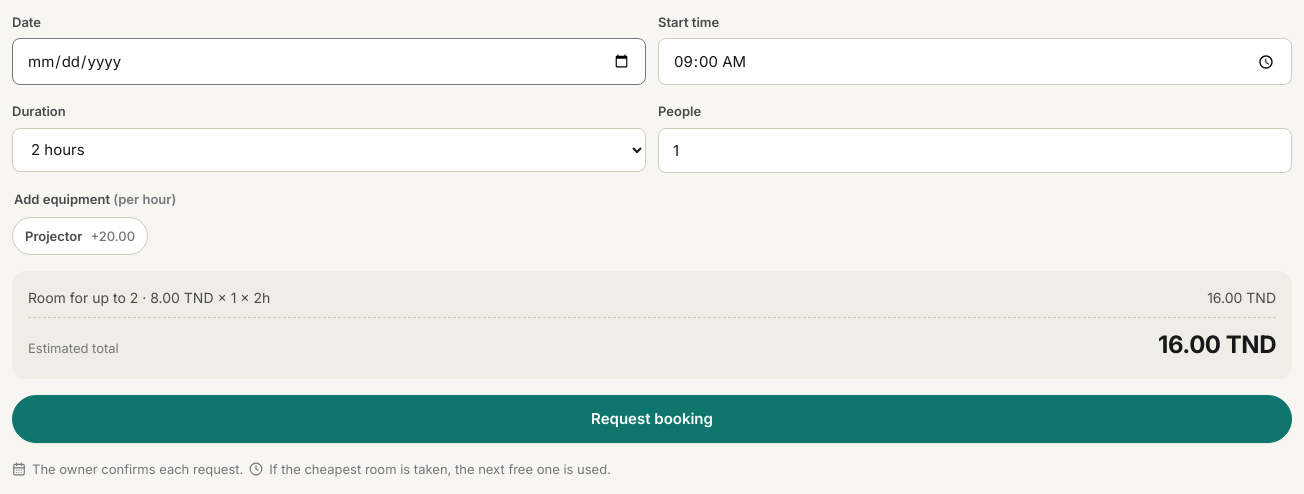
Test: BookingForm › explains when no room is big enough and disables booking
Replace the text in the number field labelled "People" with "9": (975, 150) x1=658 y1=128 x2=1292 y2=173
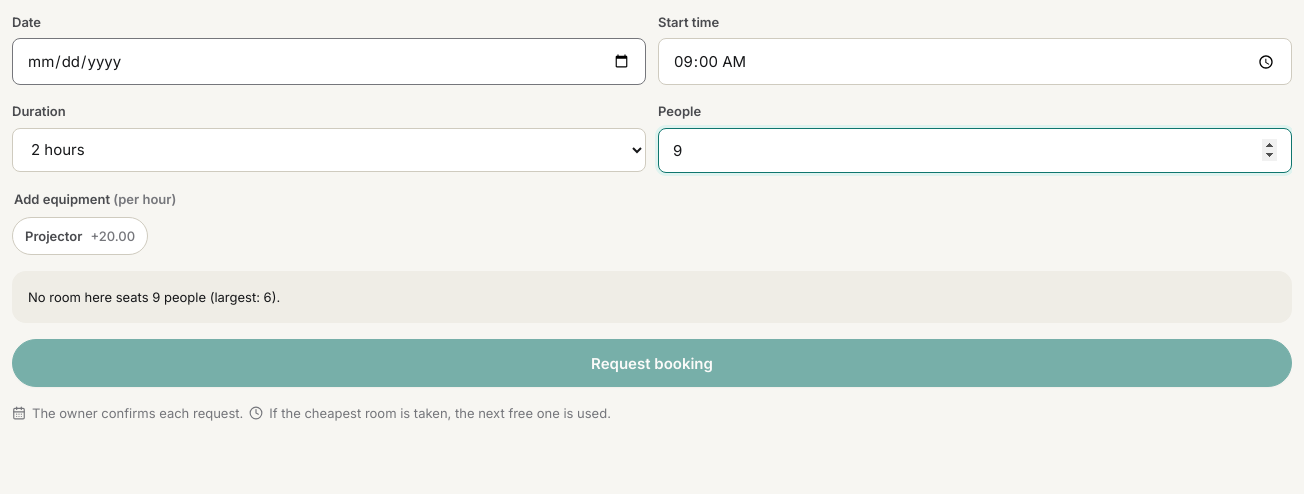
Now the text "No room here seats 9 people (largest: 6)." is shown, box x1=28 y1=289 x2=280 y2=305
Now the button "Request booking" is disabled, box x1=12 y1=339 x2=1292 y2=387
